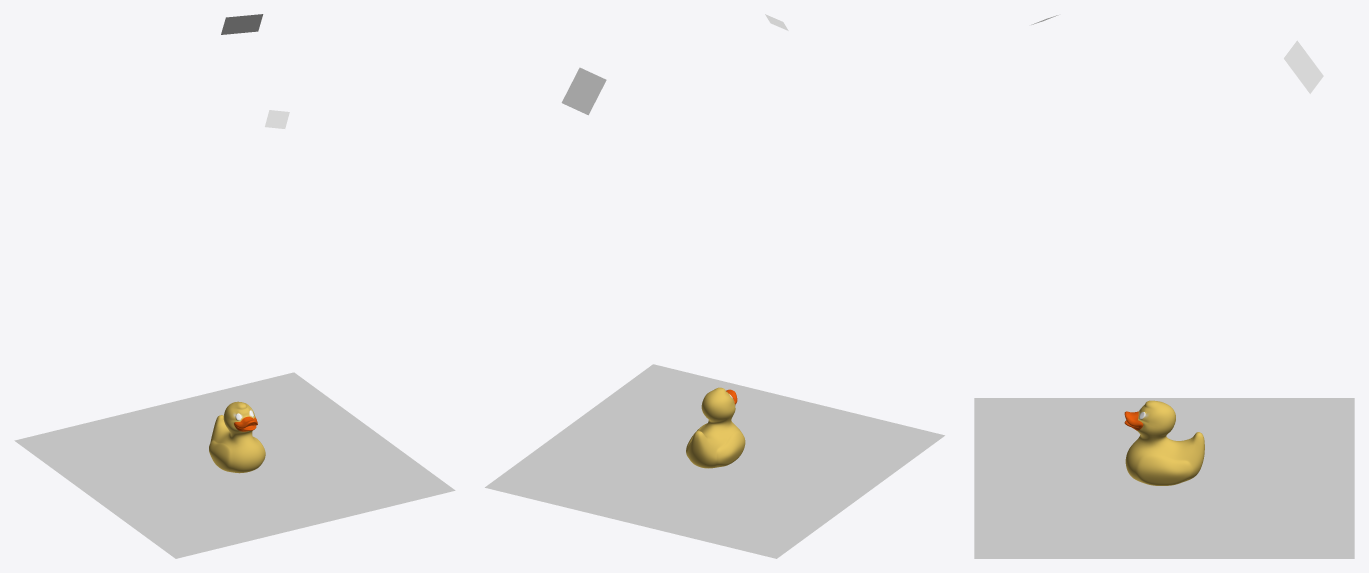
The model's file is Rubber Duck.fbx.
The picture shows the model from 3 angles, left to right: view 1: azimuth 30°, elevation 25°; view 2: azimuth 150°, elevation 25°; view 3: azimuth 270°, elevation 25°; orthographic projection. The views are drawn at different scales.
Visible parts, largest first — view 1: Ground Plane, Rubber Duck, Light1; view 2: Ground Plane, Rubber Duck, Light1; view 3: Ground Plane, Rubber Duck, Light1.
Boxes of the visible parts, x1=… form: Ground Plane: x1=14, y1=372, x2=455, y2=558; Rubber Duck: x1=209, y1=401, x2=265, y2=473; Light1: x1=221, y1=14, x2=263, y2=34; Ground Plane: x1=485, y1=364, x2=944, y2=558; Rubber Duck: x1=686, y1=387, x2=745, y2=468; Light1: x1=561, y1=67, x2=606, y2=115; Ground Plane: x1=974, y1=398, x2=1354, y2=558; Rubber Duck: x1=1124, y1=400, x2=1204, y2=485; Light1: x1=1284, y1=40, x2=1323, y2=93.
Bounding box in the file's own units: 1600 × 2159 × 1600.
